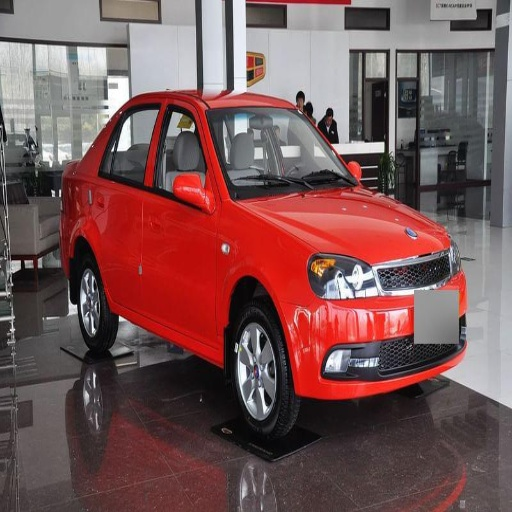front_bumper: (281, 251, 467, 398)
front_right_door: (141, 100, 217, 342)
front_right_light: (305, 252, 373, 301)
